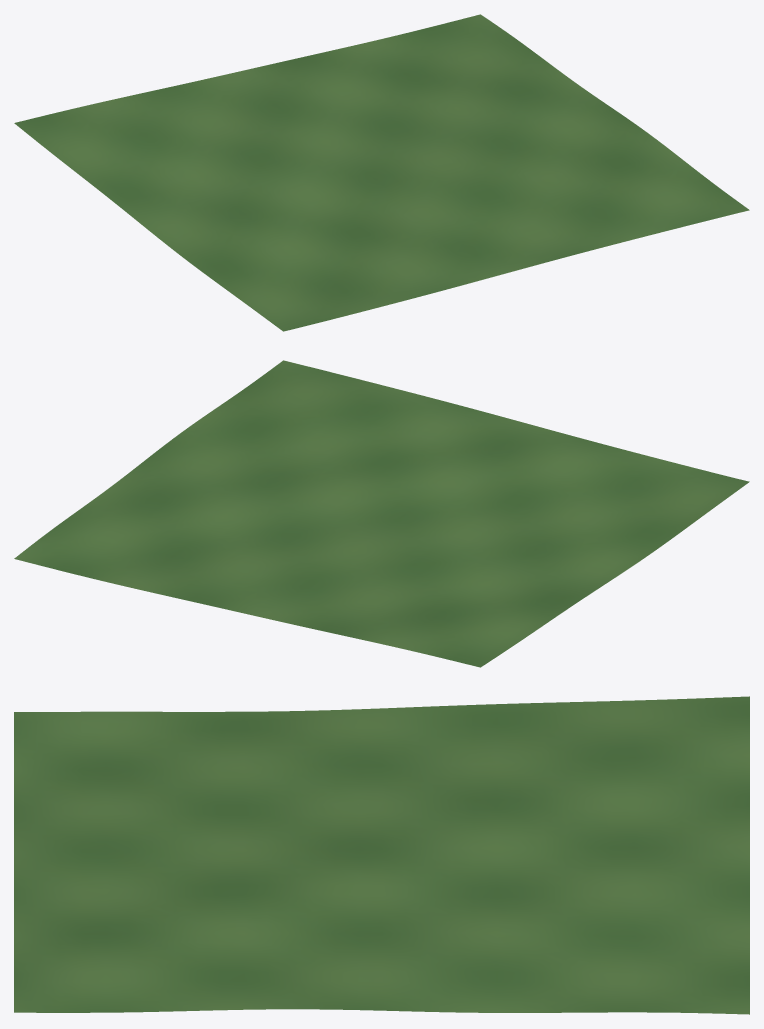
The model's file is chunk_1_8.glb.
3 renders of one model, top to bottom at view 1: azimuth 30°, elevation 25°; view 2: azimuth 150°, elevation 25°; view 3: azimuth 270°, elevation 25°, orthographic. The views are drawn at different scales.
Bounding box in the file's own units: 512 × 13.02 × 512.
